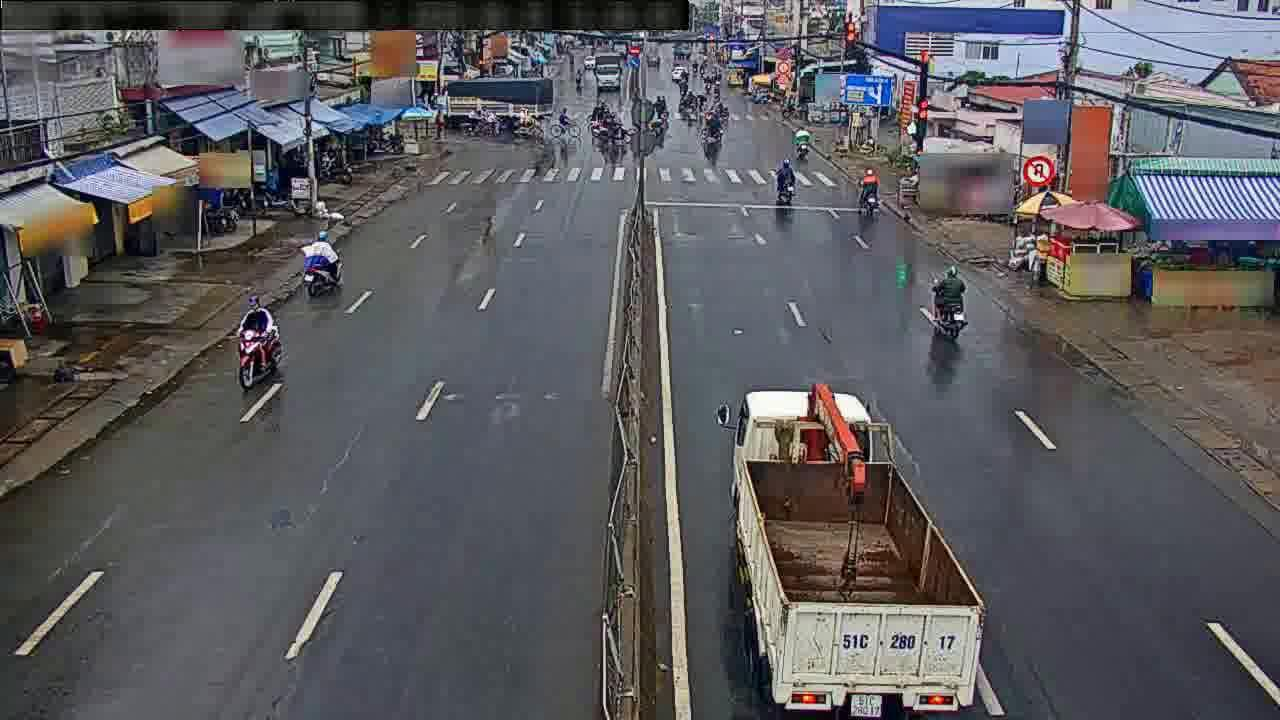container: (711, 387, 997, 710)
motorbike: (232, 295, 279, 386), (929, 266, 968, 341), (298, 224, 340, 289), (853, 164, 877, 229), (771, 154, 802, 204)
